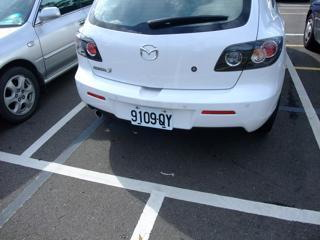plate: (128, 104, 175, 131)
